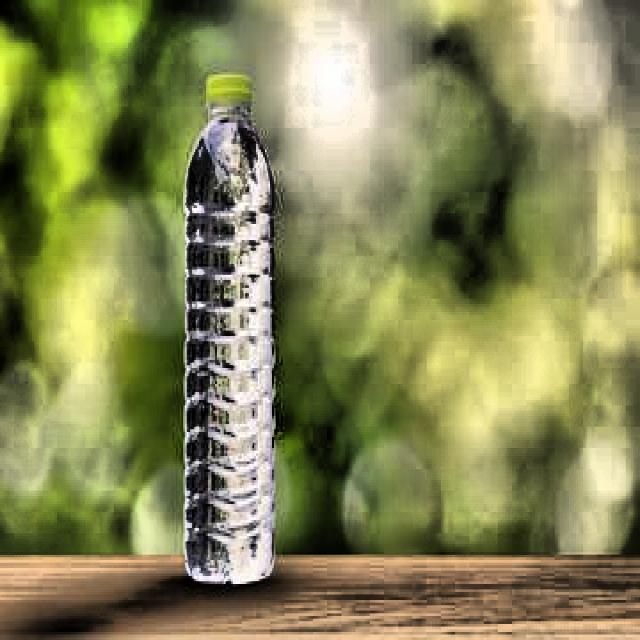Bottles: (173, 62, 284, 595)
